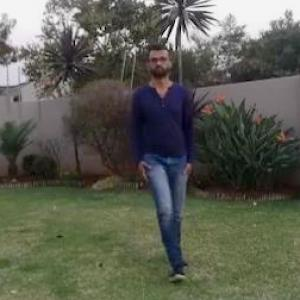follow: (134, 45, 196, 255)
